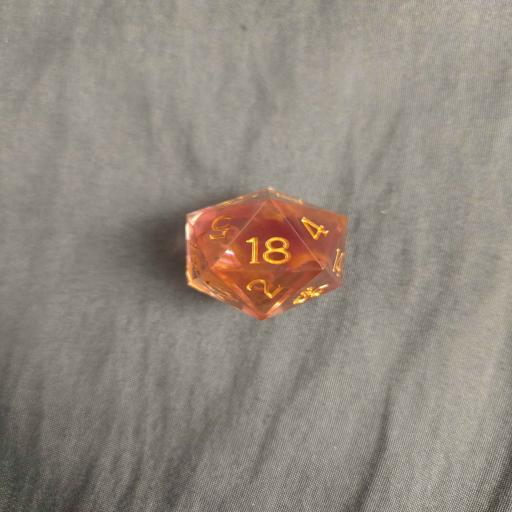twenty sided dice: (184, 188, 347, 320)
